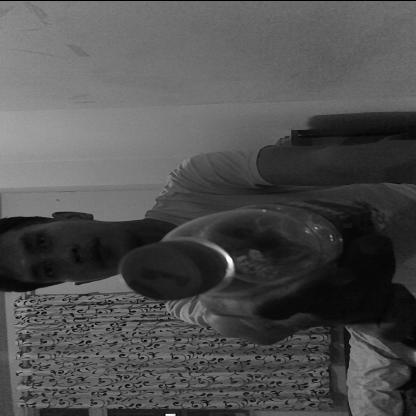plastic_bottles: (117, 194, 394, 300)
